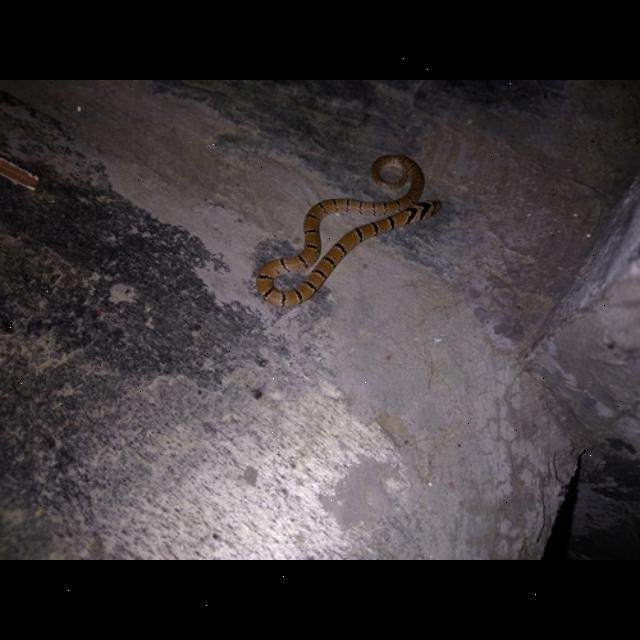snake: (252, 149, 443, 319)
